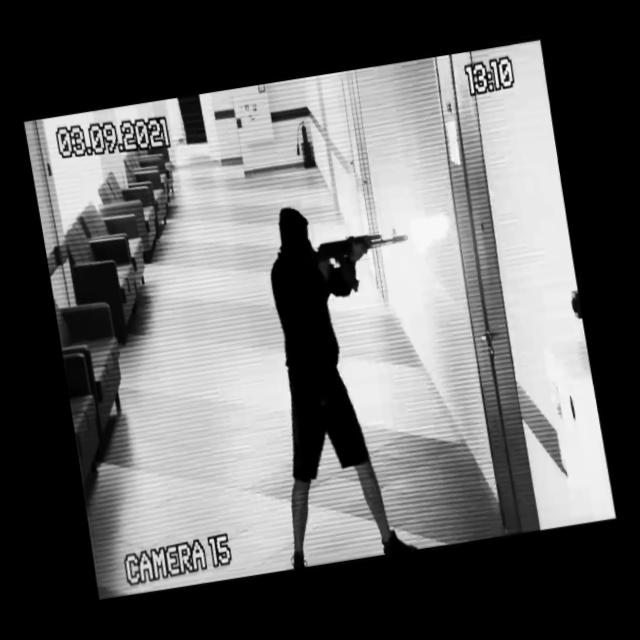gun: (291, 224, 416, 300)
person with a gun: (238, 189, 457, 568)
